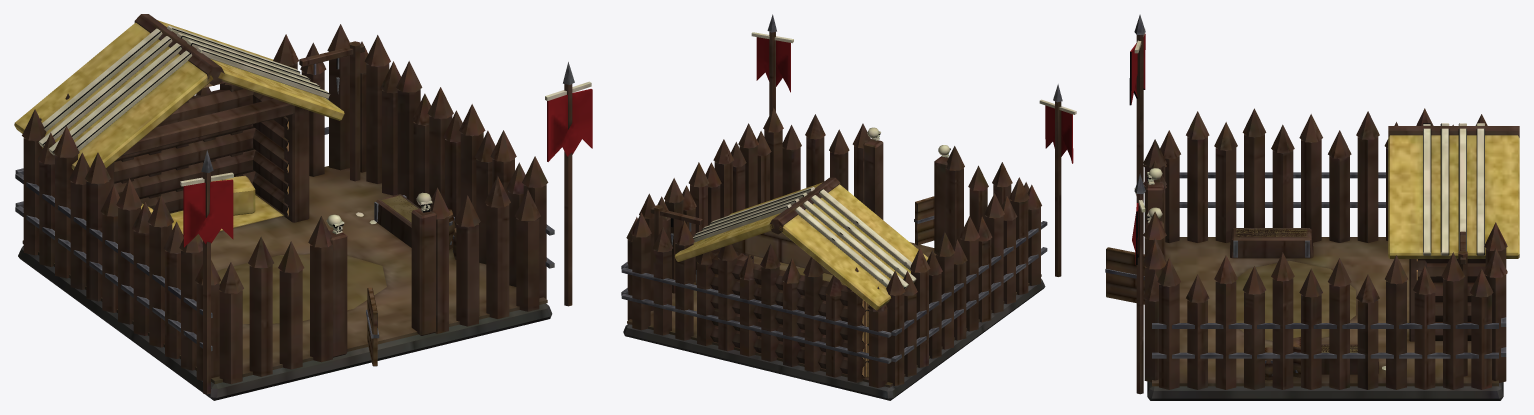
File: pig_farm.glb
The picture shows the model from 3 angles, left to right: view 1: azimuth 30°, elevation 25°; view 2: azimuth 150°, elevation 25°; view 3: azimuth 270°, elevation 25°; orthographic projection. The views are drawn at different scales.
Parts seen in each view (by area): view 1: Static_Mesh, Anim_Banners; view 2: Static_Mesh, Anim_Banners; view 3: Static_Mesh, Anim_Banners.
Part boxes in pixels (x1=…): Static_Mesh: x1=14, y1=14, x2=591, y2=400; Anim_Banners: x1=183, y1=89, x2=592, y2=247; Static_Mesh: x1=621, y1=14, x2=1076, y2=400; Anim_Banners: x1=756, y1=37, x2=1073, y2=163; Static_Mesh: x1=1105, y1=14, x2=1519, y2=400; Anim_Banners: x1=1129, y1=33, x2=1145, y2=264.
Size of the model in its own units: 7.15 by 4.31 by 6.93.
Materials: 2 (2 with a texture image).
